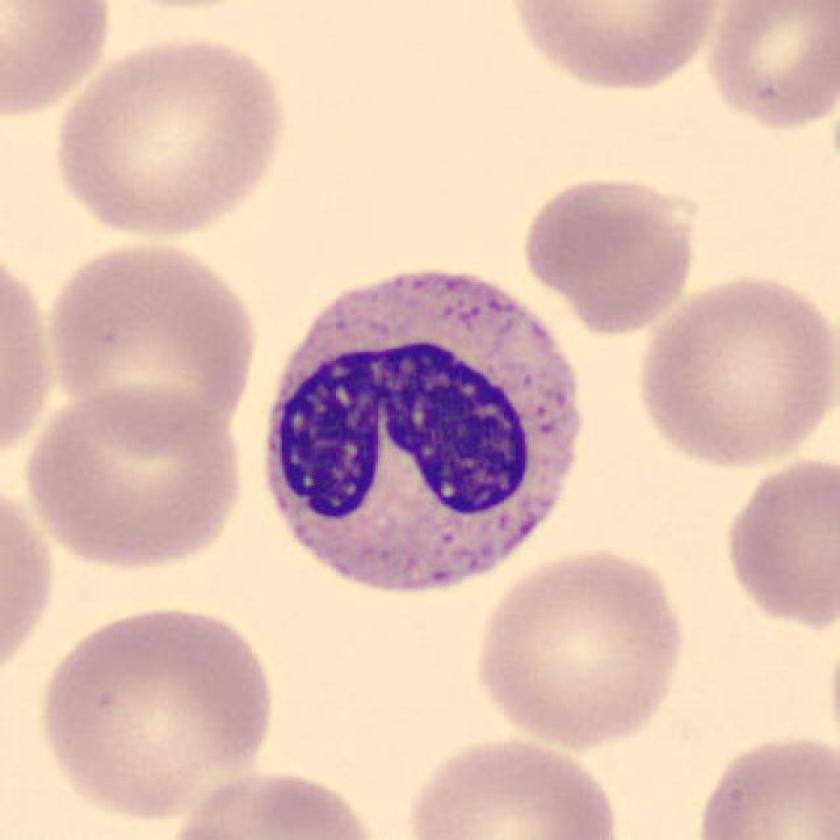neutrophil: (264, 269, 585, 593)
